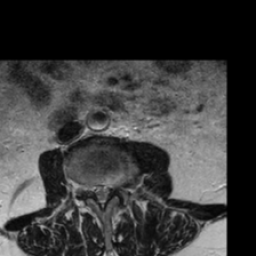CCS_normal: (98, 176, 105, 214)
LFS_severe_stenosis: (113, 177, 121, 199)
LLS_stenosis: (105, 176, 113, 203)
RFS_stenosis: (82, 177, 90, 200)
RLS_stenosis: (90, 177, 98, 201)
